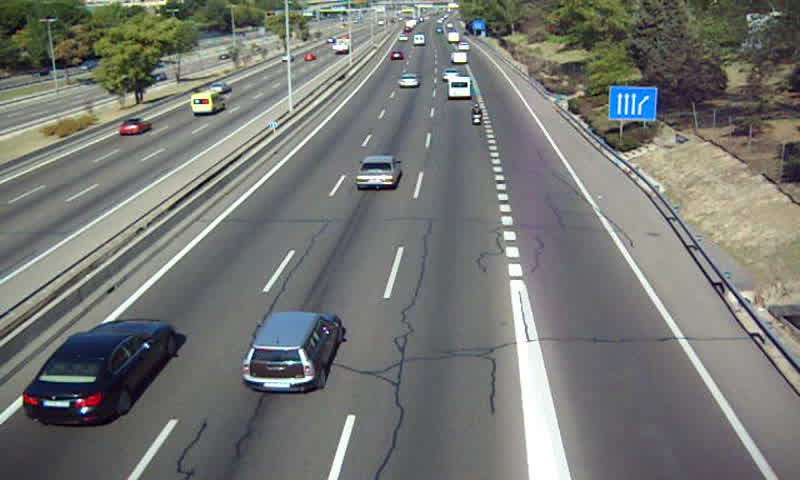car: (23, 320, 174, 426), (244, 310, 339, 392), (357, 154, 400, 189), (398, 73, 419, 89), (442, 68, 458, 82)
motorcycle: (471, 103, 484, 125)
van: (449, 74, 472, 98), (451, 52, 469, 65)
